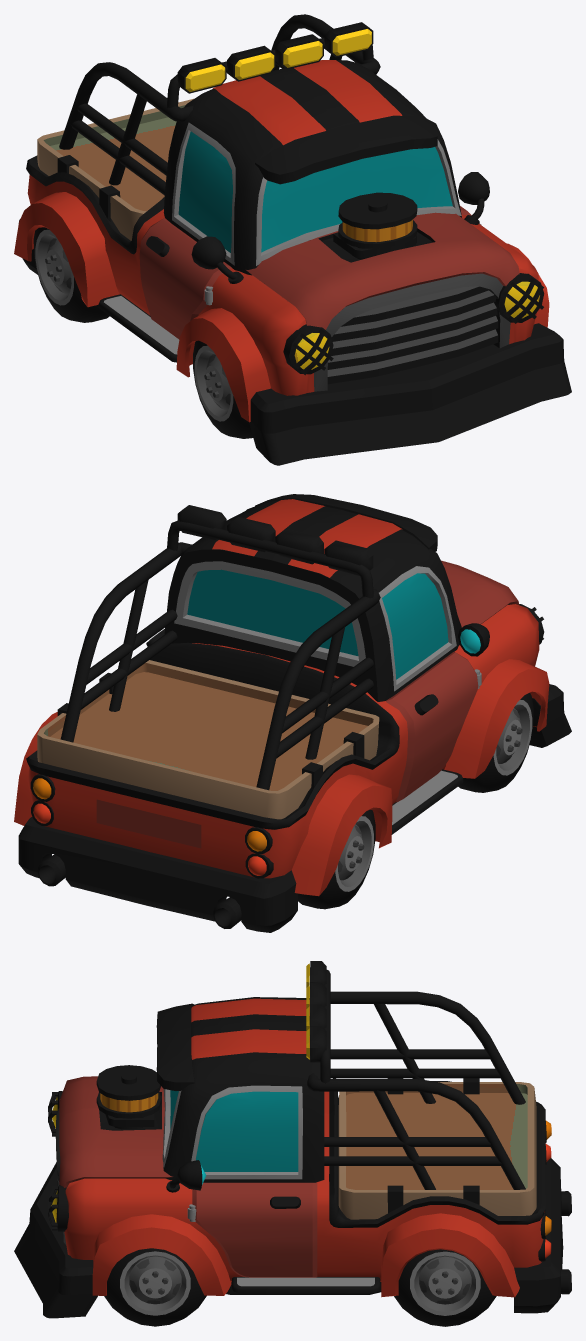
Rendered from VEH19-B.fbx.
3 views of the same model, one above another, from view 1: azimuth 30°, elevation 25°; view 2: azimuth 150°, elevation 25°; view 3: azimuth 270°, elevation 25° (orthographic). The views are drawn at different scales.
Parts seen in each view (by area): view 1: VEH19_B, V19B_Wheel_BR, V19B_Wheel_FR; view 2: VEH19_B, V19B_Wheel_BR, V19B_Wheel_FR; view 3: VEH19_B, V19B_Wheel_FL, V19B_Wheel_BL.
Part boxes in pixels (bbox=[...]): VEH19_B: bbox=[14, 14, 571, 465]; V19B_Wheel_BR: bbox=[33, 227, 109, 322]; V19B_Wheel_FR: bbox=[193, 340, 253, 438]; VEH19_B: bbox=[14, 494, 571, 932]; V19B_Wheel_BR: bbox=[298, 810, 375, 909]; V19B_Wheel_FR: bbox=[458, 692, 533, 792]; VEH19_B: bbox=[14, 961, 571, 1318]; V19B_Wheel_FL: bbox=[104, 1248, 206, 1326]; V19B_Wheel_BL: bbox=[394, 1249, 496, 1326].
Bounding box in the file's own units: 266 × 233 × 441.
1 material, 1 textured.
